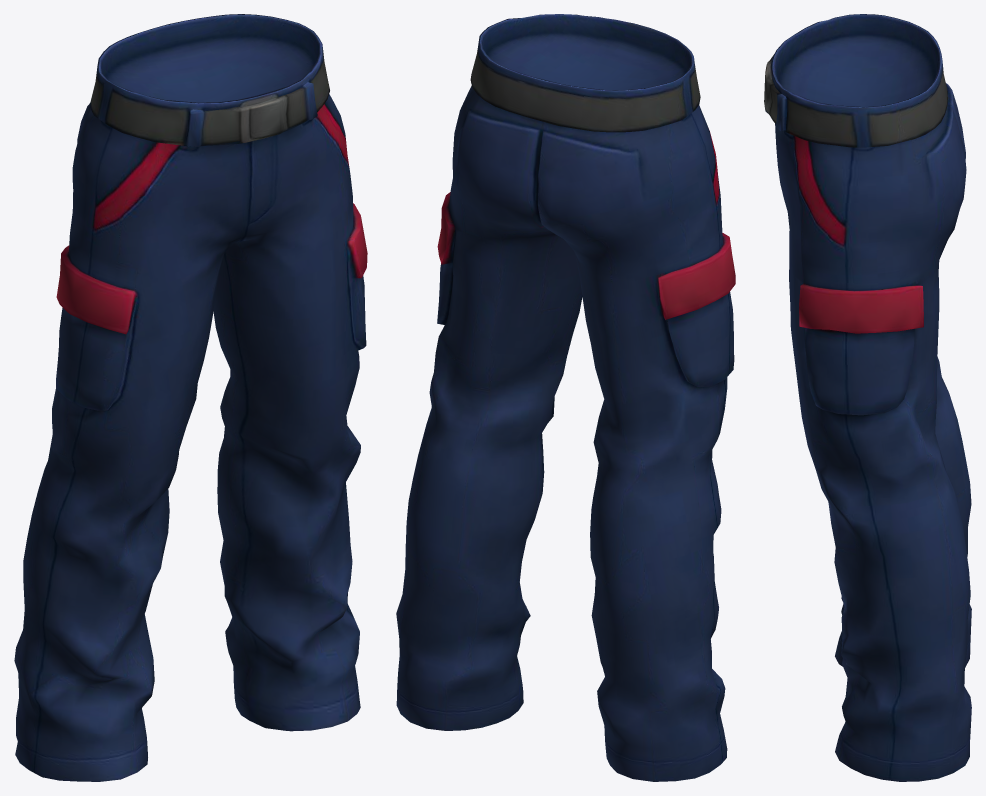
The model's file is street-legs.glb.
The picture shows the model from 3 angles, left to right: view 1: azimuth 30°, elevation 25°; view 2: azimuth 150°, elevation 25°; view 3: azimuth 270°, elevation 25°; orthographic projection. The views are drawn at different scales.
Visible parts, largest first — view 1: street-legs; view 2: street-legs; view 3: street-legs.
Part boxes in pixels (<box>): street-legs: <box>14,14,367,781</box>; street-legs: <box>396,14,735,781</box>; street-legs: <box>764,14,971,781</box>.
Bounding box in the file's own units: 0.4185 × 0.85 × 0.2479.
Materials: 1 (1 with a texture image).
